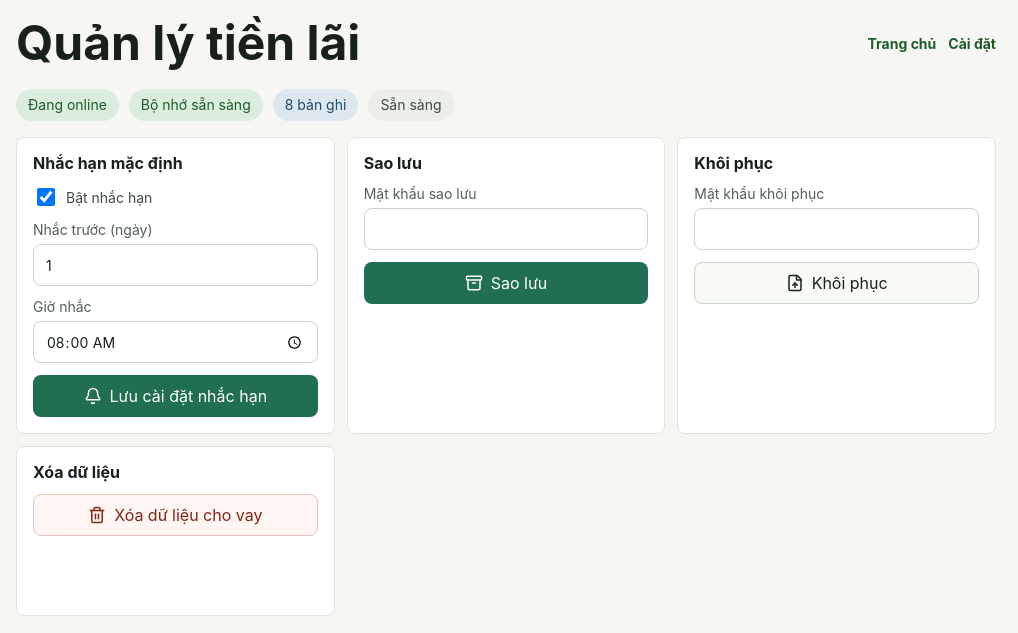
Test: App › resets lending data only after confirmation without clearing unrelated shared records
The image size is (1018, 633).
Click the link "Cài đặt" at (972, 43), box [948,34,996,52]
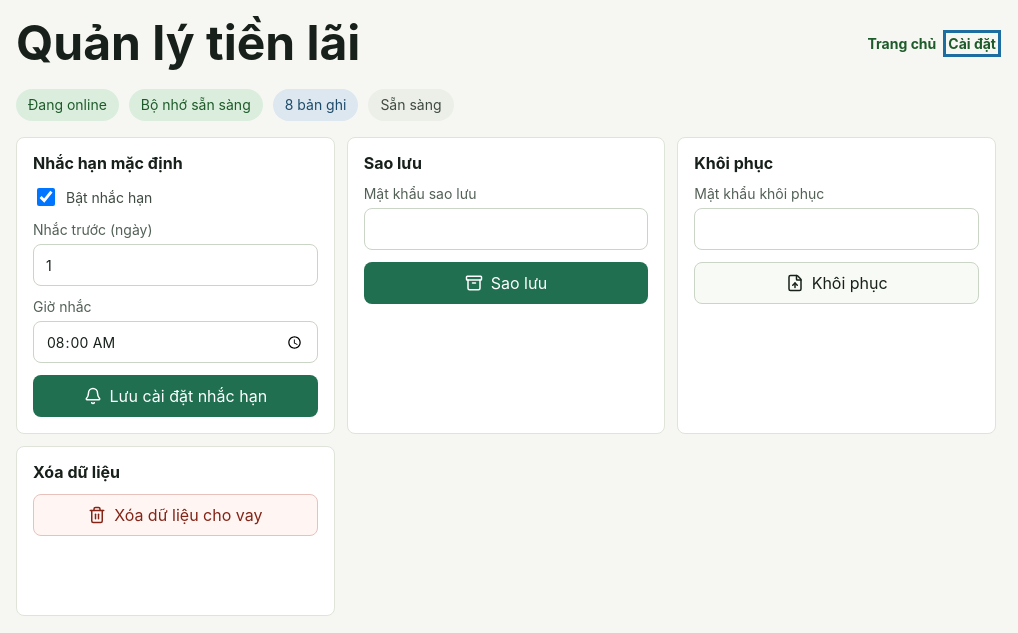
Click the button "Xóa dữ liệu cho vay" at (175, 515), box [33,494,318,536]
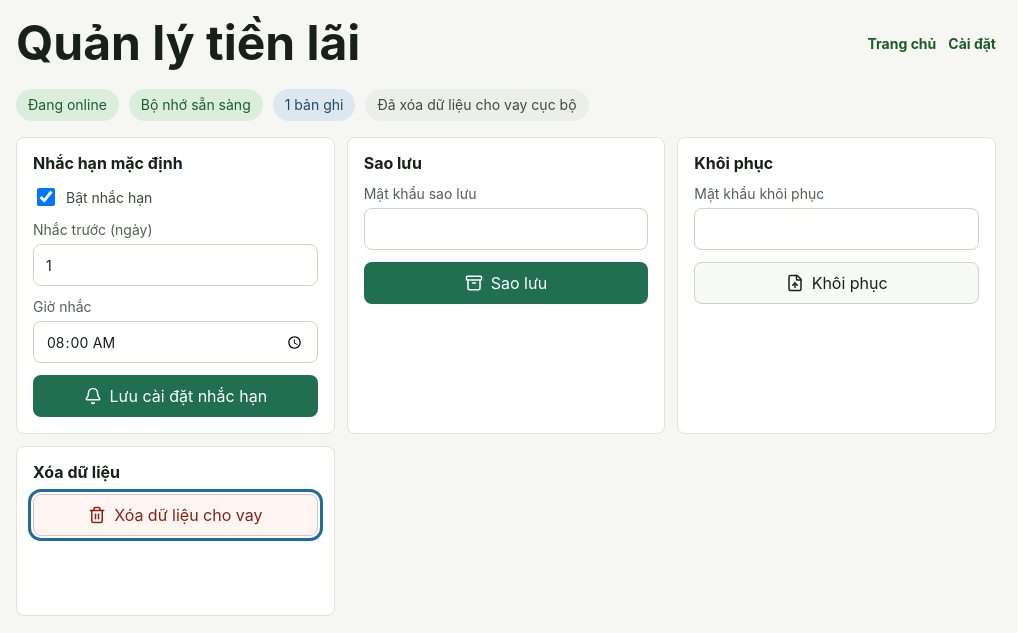
Result: the text "Đã xóa dữ liệu cho vay cục bộ" is shown at [365,89,588,121]
